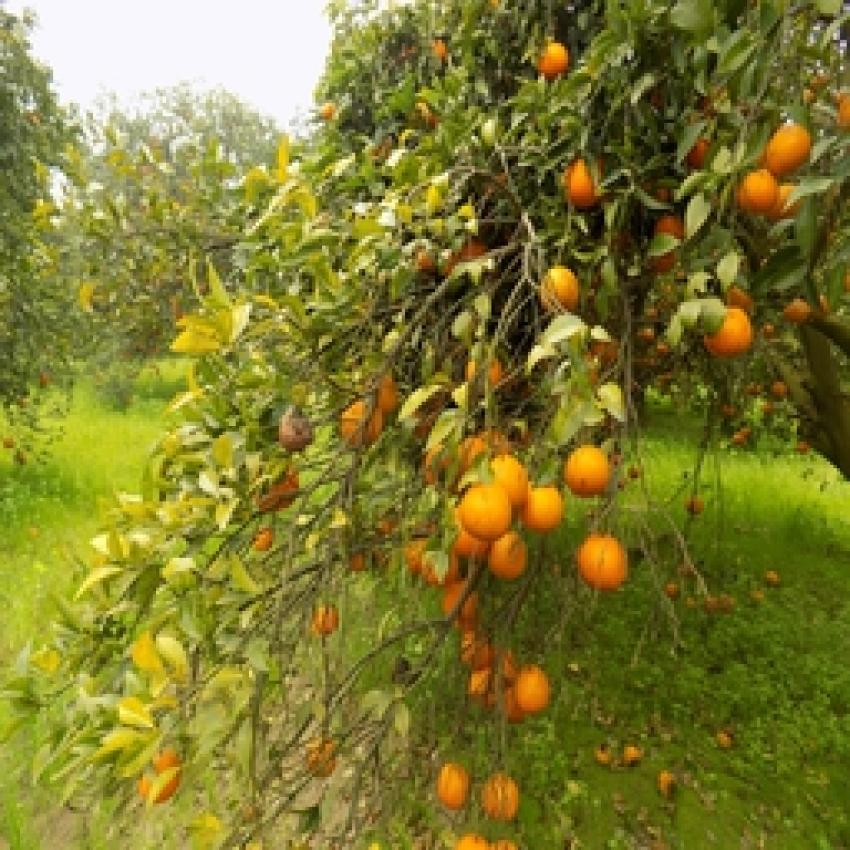Buen estado: (449, 480, 517, 540), (445, 499, 496, 567), (575, 530, 626, 594), (483, 450, 535, 510), (488, 530, 535, 589), (559, 443, 608, 499), (524, 483, 564, 535)
